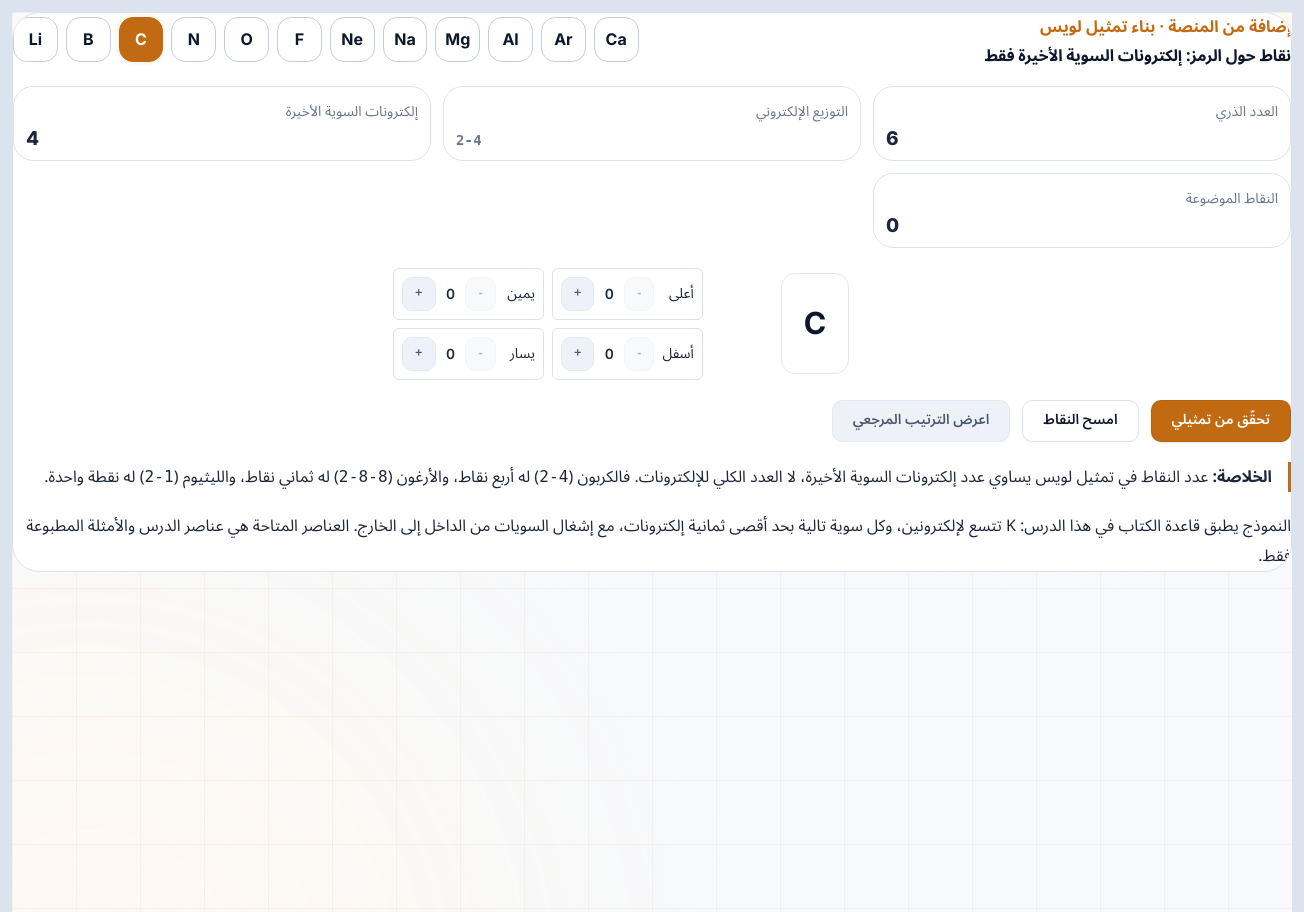
Test: Lewis dot lab › explains the pairing rule instead of accepting a doubled side first
Click the button named "إضافة إلكترون إلى جهة أعلى". click: x=578, y=294
box: [561, 277, 594, 311]
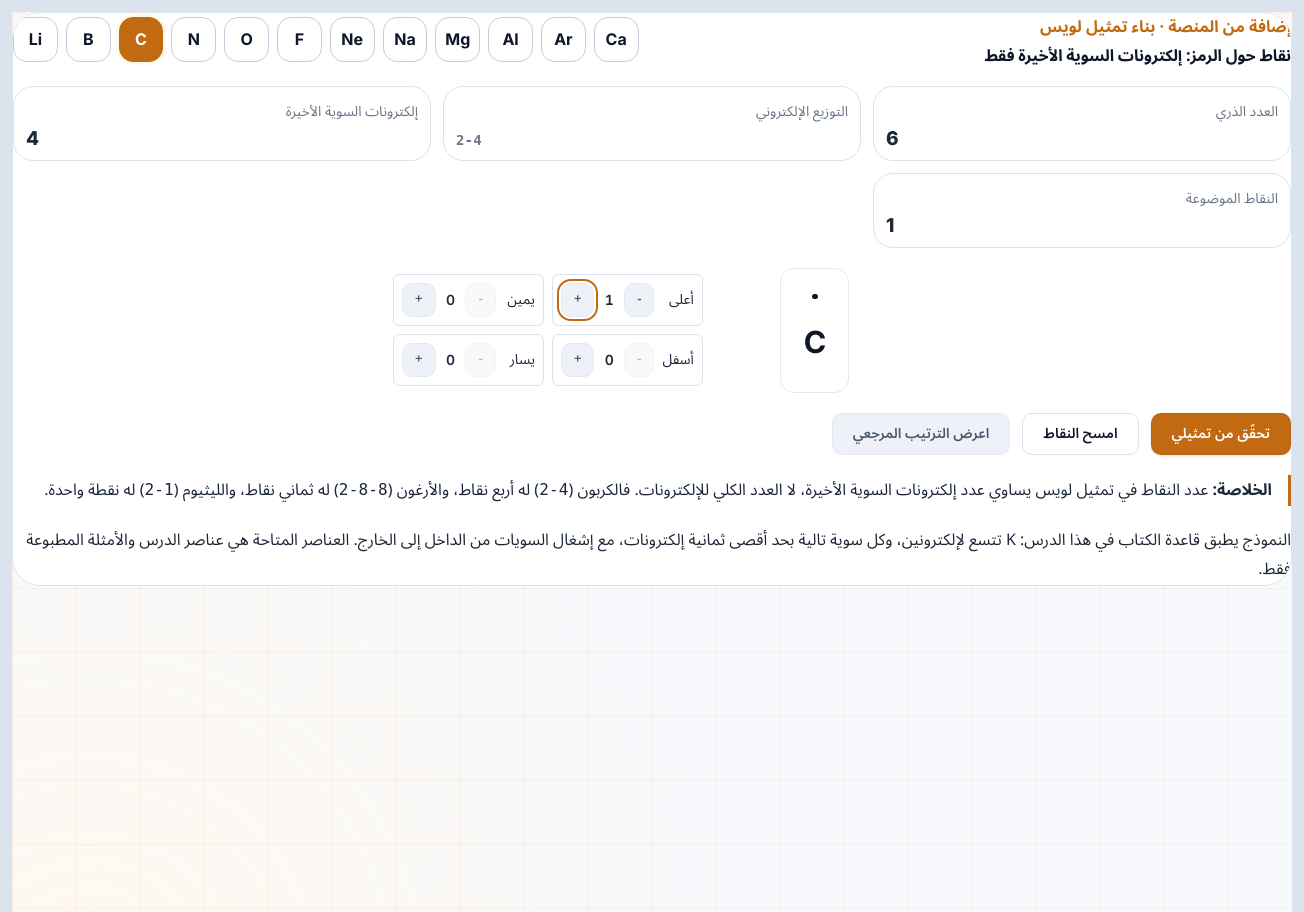
Click the button named "إضافة إلكترون إلى جهة أعلى". click: x=578, y=300
box: [561, 283, 594, 317]
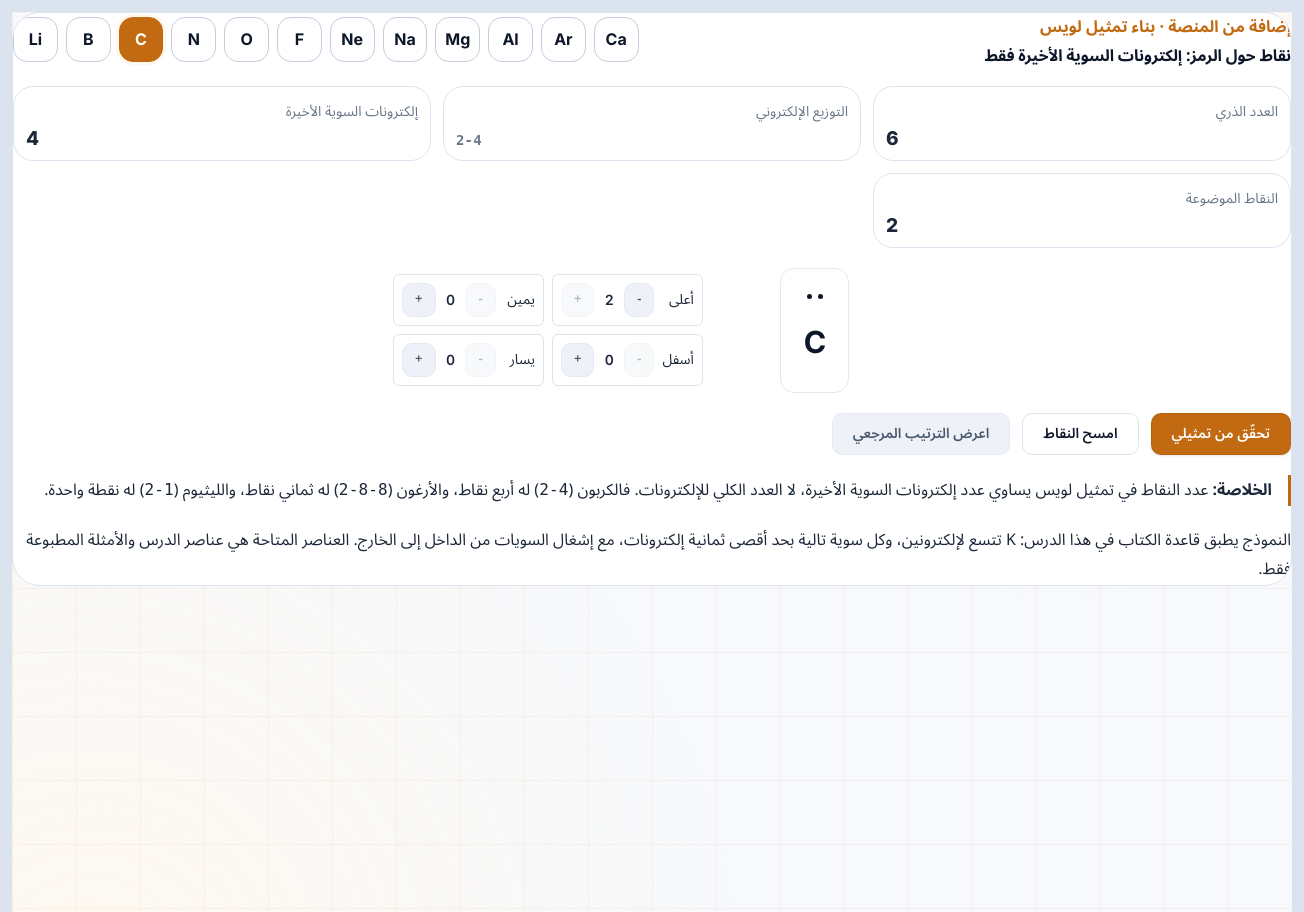
Click the button "تحقّق من تمثيلي". click: x=1221, y=434
box: [1151, 413, 1291, 455]
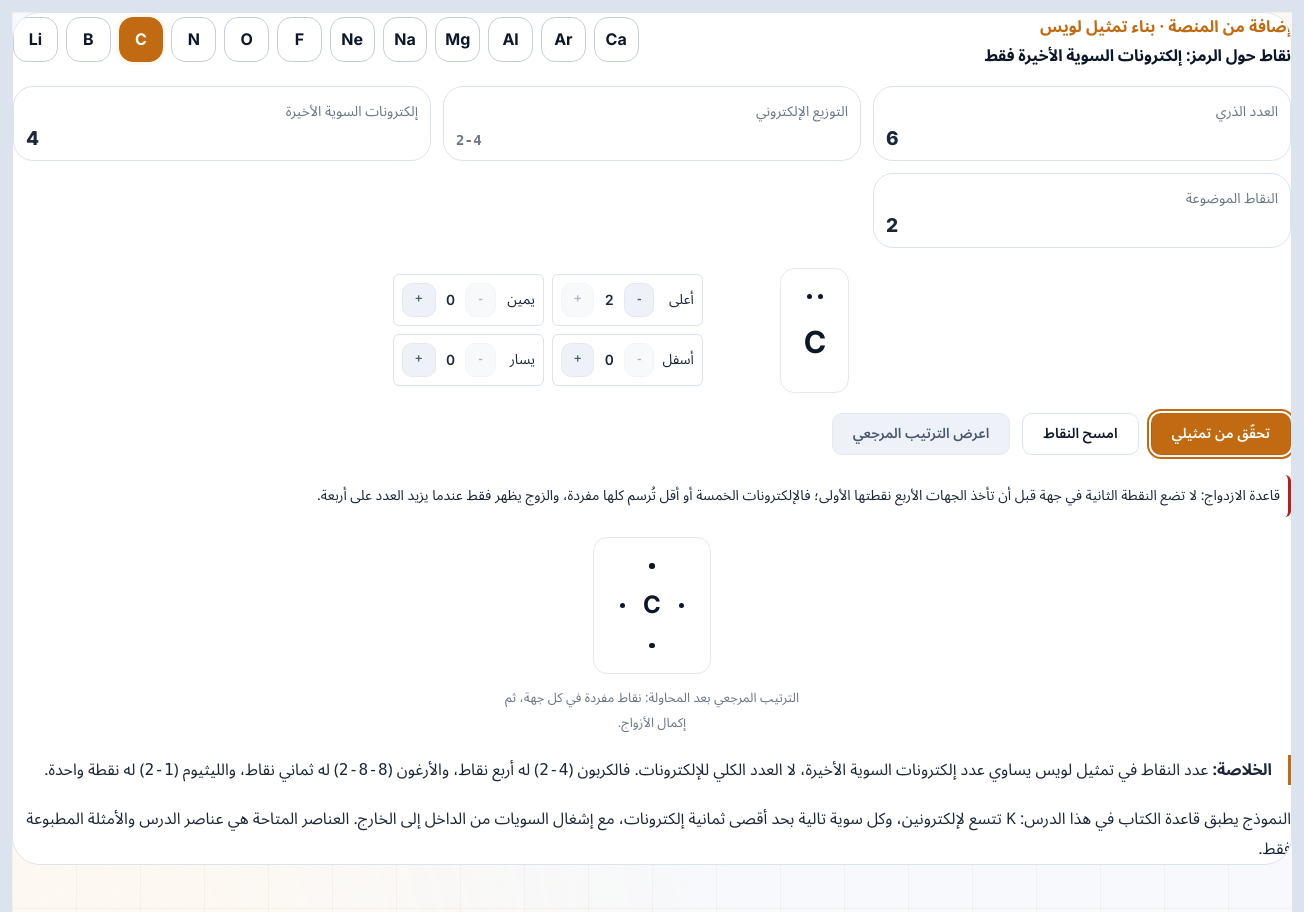
Result: the text "قاعدة الازدواج" is shown at [317, 481, 1280, 510]
